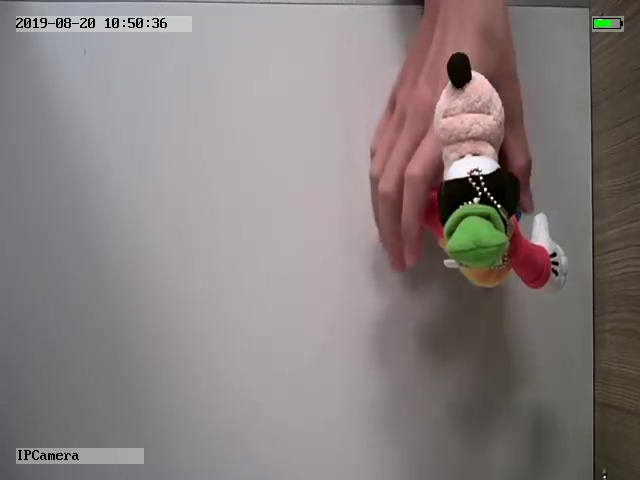goofy: (419, 52, 569, 291)
